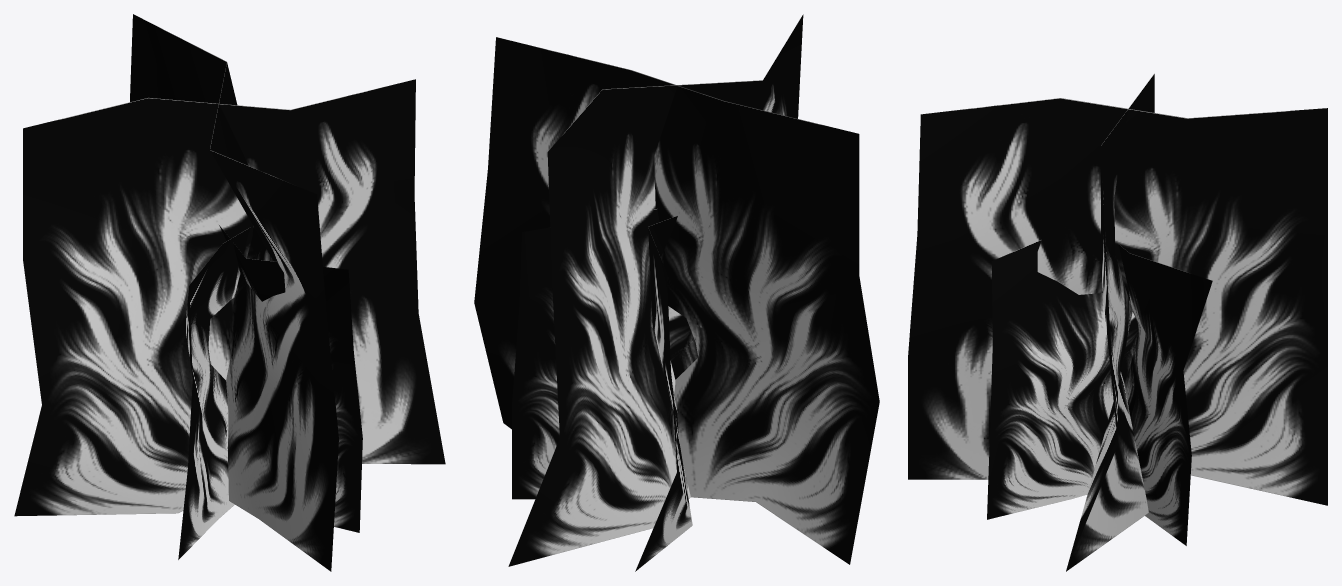
The model's file is GrassNormalSmall01.fbx.
3 renders of one model, left to right at view 1: azimuth 30°, elevation 25°; view 2: azimuth 150°, elevation 25°; view 3: azimuth 270°, elevation 25°, orthographic. The views are drawn at different scales.
Parts seen in each view (by area): view 1: Ebene_4; view 2: Ebene_4; view 3: Ebene_4.
Boxes of the visible parts, box(x1,y1,x2,y2) form: Ebene_4: box(14, 14, 445, 571); Ebene_4: box(474, 14, 879, 571); Ebene_4: box(908, 73, 1327, 571).
Bounding box in the file's own units: 5 × 5.1 × 5.
Materials: 1 (1 with a texture image).
